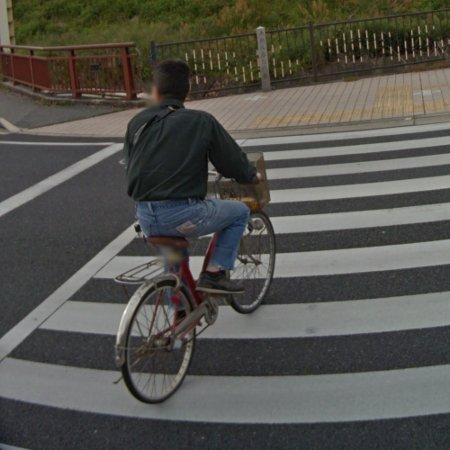crosswalks: (0, 123, 450, 450)
